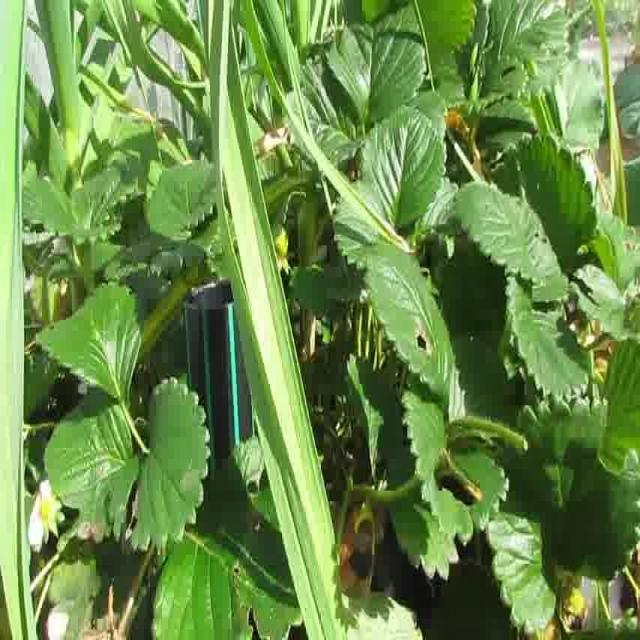Fruta sana: (522, 609, 562, 640), (557, 586, 585, 616), (270, 227, 288, 259), (38, 498, 54, 524)
Moho gris: (76, 634, 128, 640)
